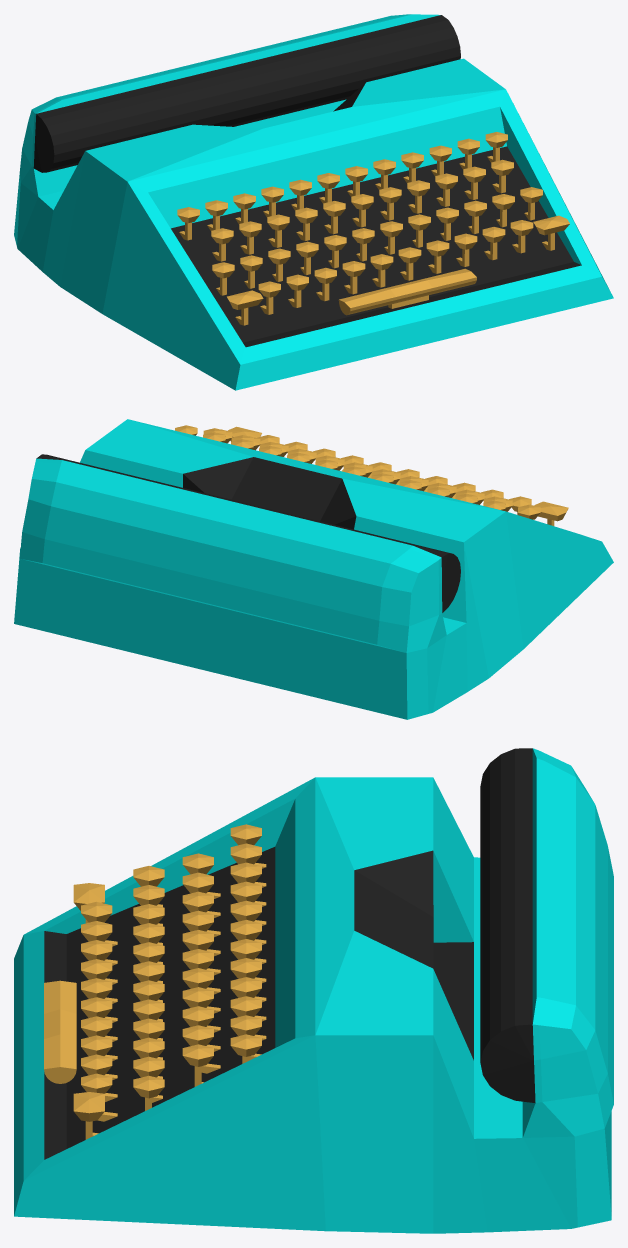
The model's file is Typewriter59.fbx.
3 renders of one model, top to bottom at view 1: azimuth 30°, elevation 25°; view 2: azimuth 150°, elevation 25°; view 3: azimuth 270°, elevation 25°, orthographic. The views are drawn at different scales.
Parts seen in each view (by area): view 1: Typewriter59; view 2: Typewriter59; view 3: Typewriter59.
Part boxes in pixels (left/top/right/bottom): Typewriter59: left=14, top=14, right=613, bottom=390; Typewriter59: left=14, top=419, right=613, bottom=719; Typewriter59: left=14, top=748, right=613, bottom=1233.
Size of the model in its own units: 13.78 by 4.62 by 11.96.
